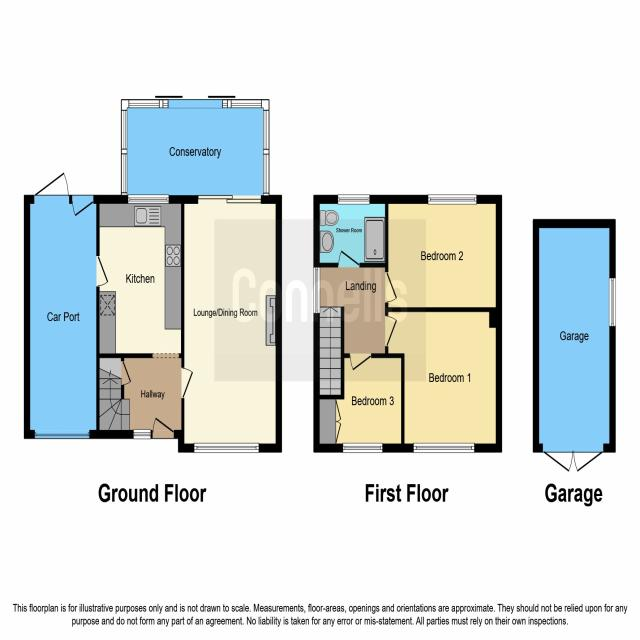DOOR: (152, 416, 174, 439), (385, 314, 398, 348), (337, 249, 360, 268), (385, 271, 398, 303), (181, 367, 194, 399), (96, 255, 109, 287), (349, 353, 372, 371)
ROOM: (178, 195, 282, 453), (385, 307, 502, 453), (96, 194, 184, 358), (385, 195, 502, 312), (313, 353, 405, 453)
SLIDING DOOR: (196, 193, 263, 206)
WINDOW: (413, 442, 475, 454), (194, 442, 260, 453), (428, 194, 477, 205), (342, 442, 383, 453), (127, 194, 169, 204), (313, 266, 321, 314), (337, 194, 370, 205), (133, 429, 151, 440)
